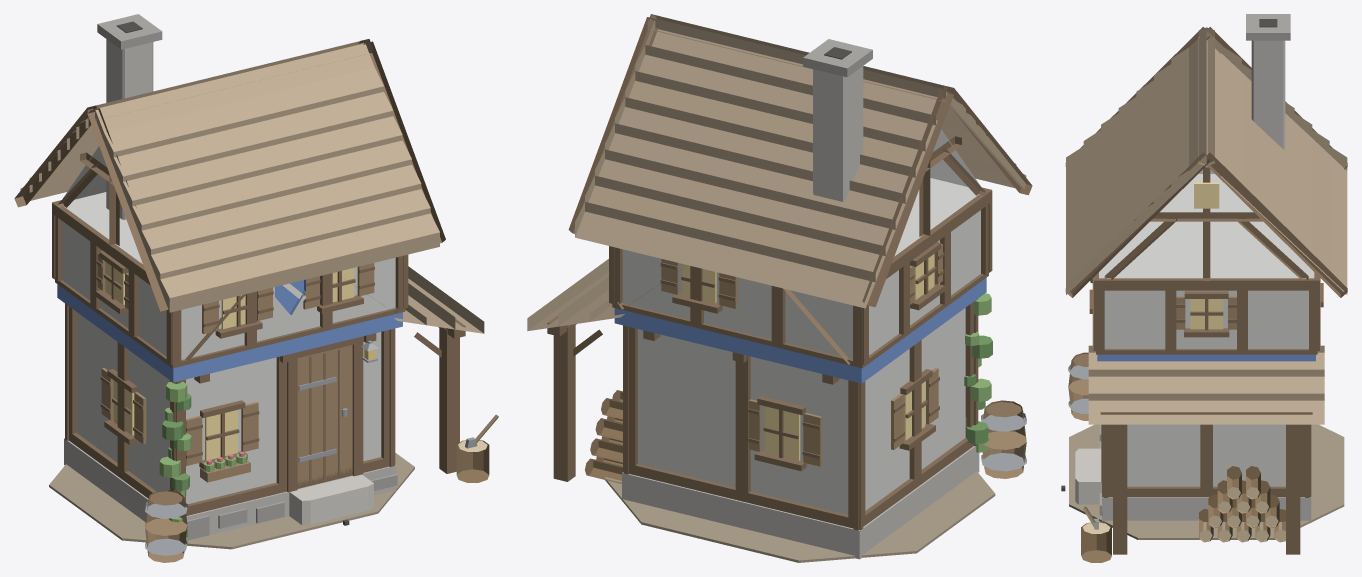
File: house.glb
3 views of the same model, side by side, from view 1: azimuth 30°, elevation 25°; view 2: azimuth 150°, elevation 25°; view 3: azimuth 270°, elevation 25° (orthographic). The views are drawn at different scales.
Parts seen in each view (by area): view 1: Walls, Upper, Roof, Roof#6, Roof#2, Roof#3, Roof#4, Roof#5, Roof#7, Roof#8, Door, Ground (+32 smaller); view 2: Walls, Upper, Roof#9, Plinth, Roof#10, Roof#11, Ground, Roof#12, Roof#13, Roof#14, Roof#15, Chimney (+33 smaller); view 3: Upper, Walls, Shed.Roof, Ground, Shed.Roof#2, Chimney, Timber.Plate#4, Roof#4, Plinth, Roof#9, Roof#2, Roof#3 (+44 smaller).
Boxes of the visible parts, x1,y1,x2,y2 form: Walls: (76,312,381,503); Upper: (62,192,395,359); Roof: (160,213,439,312); Roof#6: (113,92,393,190); Roof#2: (151,189,430,287); Roof#3: (141,165,421,262); Roof#4: (132,140,411,238); Roof#5: (123,116,402,214); Roof#7: (104,67,383,165); Roof#8: (95,43,374,141); Door: (297,345,352,486); Ground: (49,453,414,549); Walls: (638,308,965,514); Upper: (622,178,980,359); Roof#9: (575,202,875,308); Plinth: (622,446,979,559); Roof#10: (585,175,885,281); Roof#11: (595,149,895,255); Ground: (604,471,995,562); Roof#12: (605,123,905,229); Roof#13: (615,97,915,203); Roof#14: (625,71,925,177); Roof#15: (635,45,935,151); Chimney: (813,66,863,201); Upper: (1099,174,1314,348); Walls: (1127,424,1285,486); Shed.Roof: (1088,393,1324,424); Ground: (1069,424,1344,539); Shed.Roof#2: (1088,369,1324,393); Chimney: (1251,40,1285,149); Timber.Plate#4: (1096,278,1317,290); Roof#4: (1118,97,1136,245); Plinth: (1102,497,1311,522); Roof#9: (1329,146,1347,294); Roof#2: (1083,130,1100,278); Roof#3: (1101,113,1118,261).
Size of the model in its own units: 4.82 by 5.87 by 3.64.
